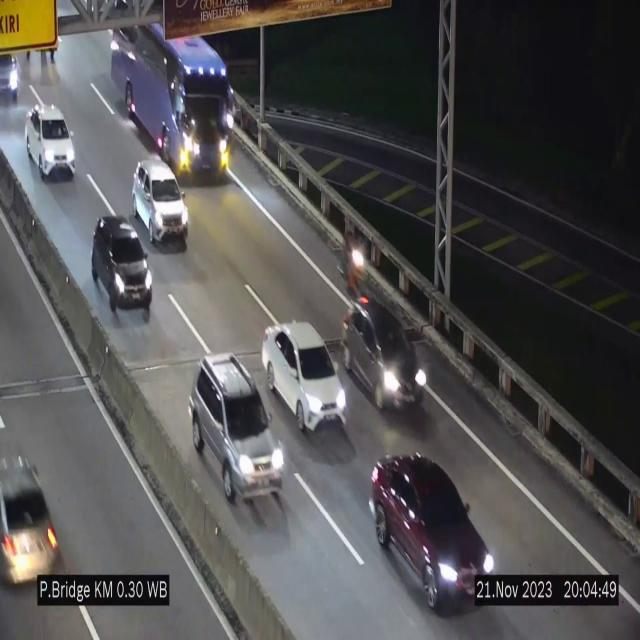Bus: (106, 32, 238, 178)
Car: (370, 455, 494, 611), (189, 356, 285, 502), (0, 449, 66, 607), (344, 302, 426, 422), (262, 322, 346, 432), (92, 215, 152, 320), (132, 159, 188, 247), (26, 104, 76, 179), (0, 38, 30, 98)
Motorcycle: (342, 228, 366, 302)
